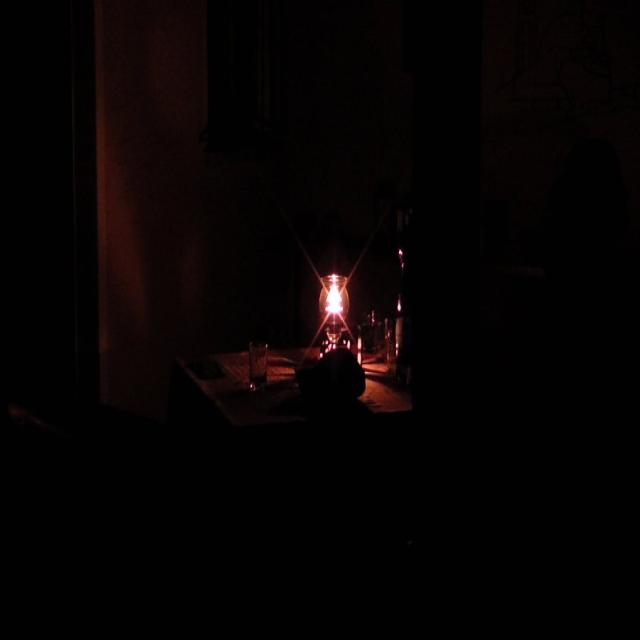Bottle: (384, 228, 427, 404)
Cup: (242, 322, 277, 406)
Table: (144, 310, 444, 513)
